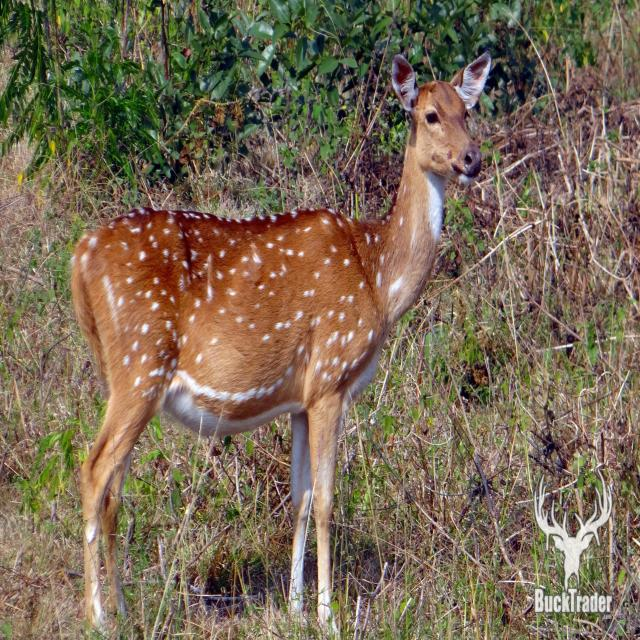not_pig: (69, 49, 492, 637)
